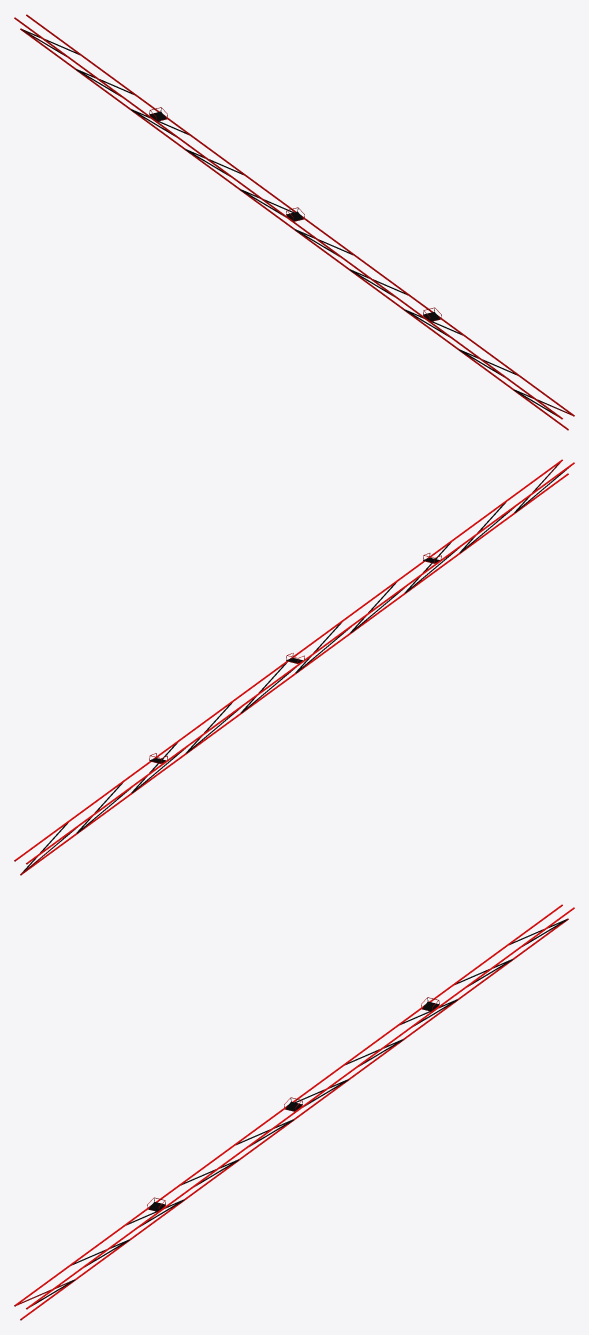
Rendered from feed_leg.glb.
3 renders of one model, top to bottom at view 1: azimuth 30°, elevation 25°; view 2: azimuth 150°, elevation 25°; view 3: azimuth 330°, elevation 25°, orthographic.
Visible parts, largest first — view 1: feed_leg; view 2: feed_leg; view 3: feed_leg.
Part boxes in pixels (<box>): feed_leg: <box>14,14,574,430</box>; feed_leg: <box>14,459,574,875</box>; feed_leg: <box>14,904,574,1320</box>.
Bounding box in the file's own units: 2.92 × 4.1 × 201.
